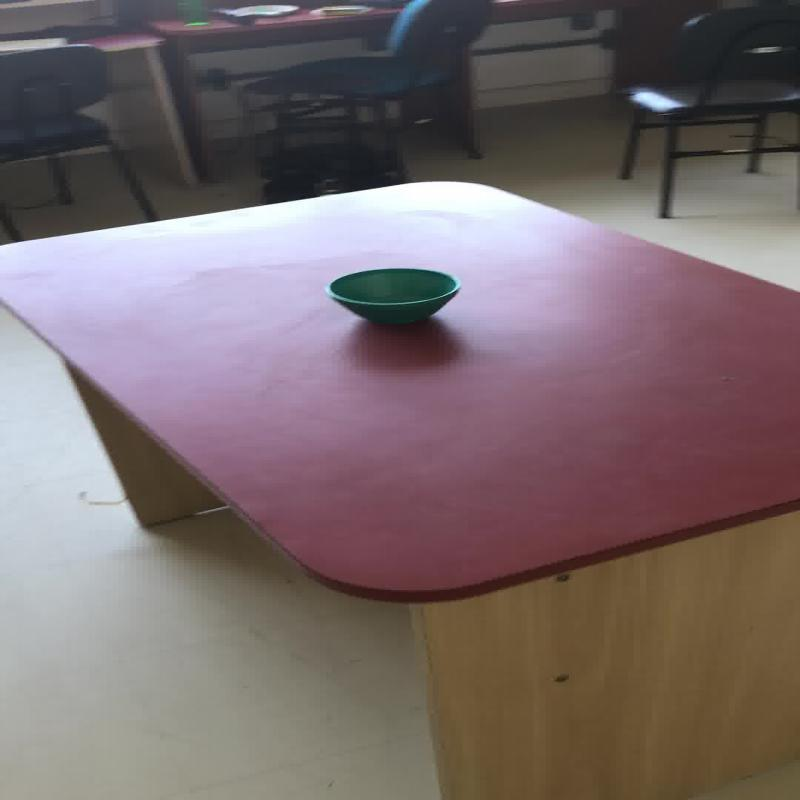bowl: (322, 266, 460, 324)
